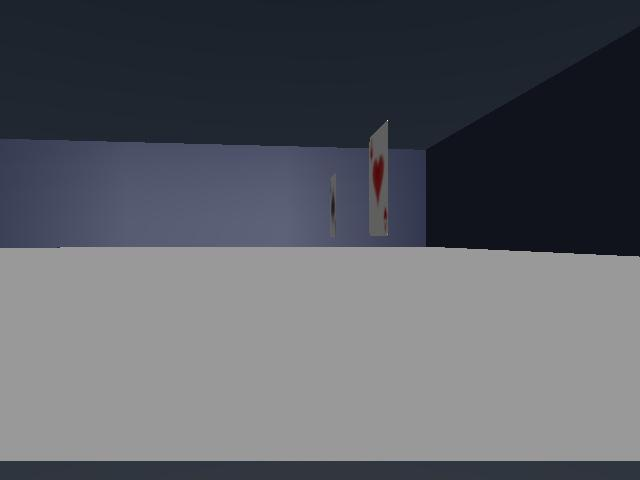club: (330, 174, 335, 236)
heart: (369, 121, 388, 235)
